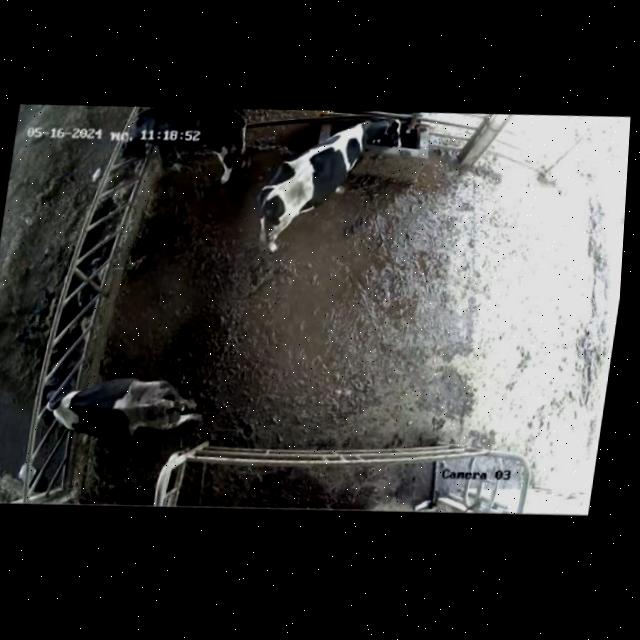drink: (350, 109, 415, 186)
eat: (86, 104, 189, 179), (17, 362, 102, 440)
